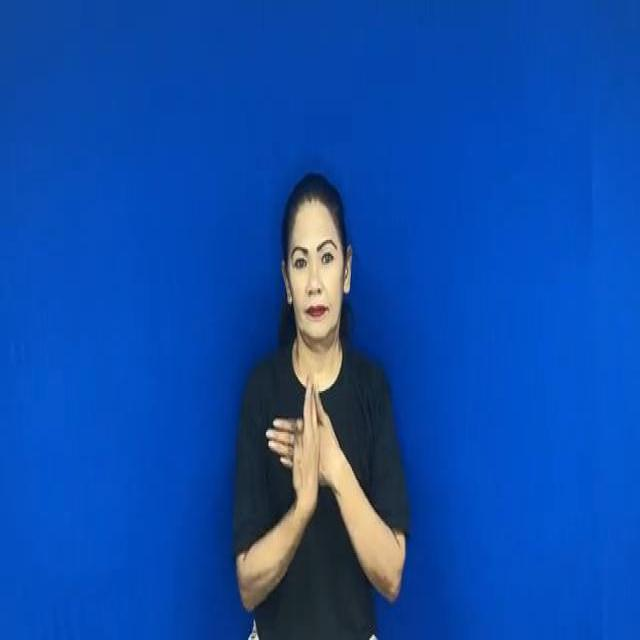bread: (265, 377, 353, 528)
